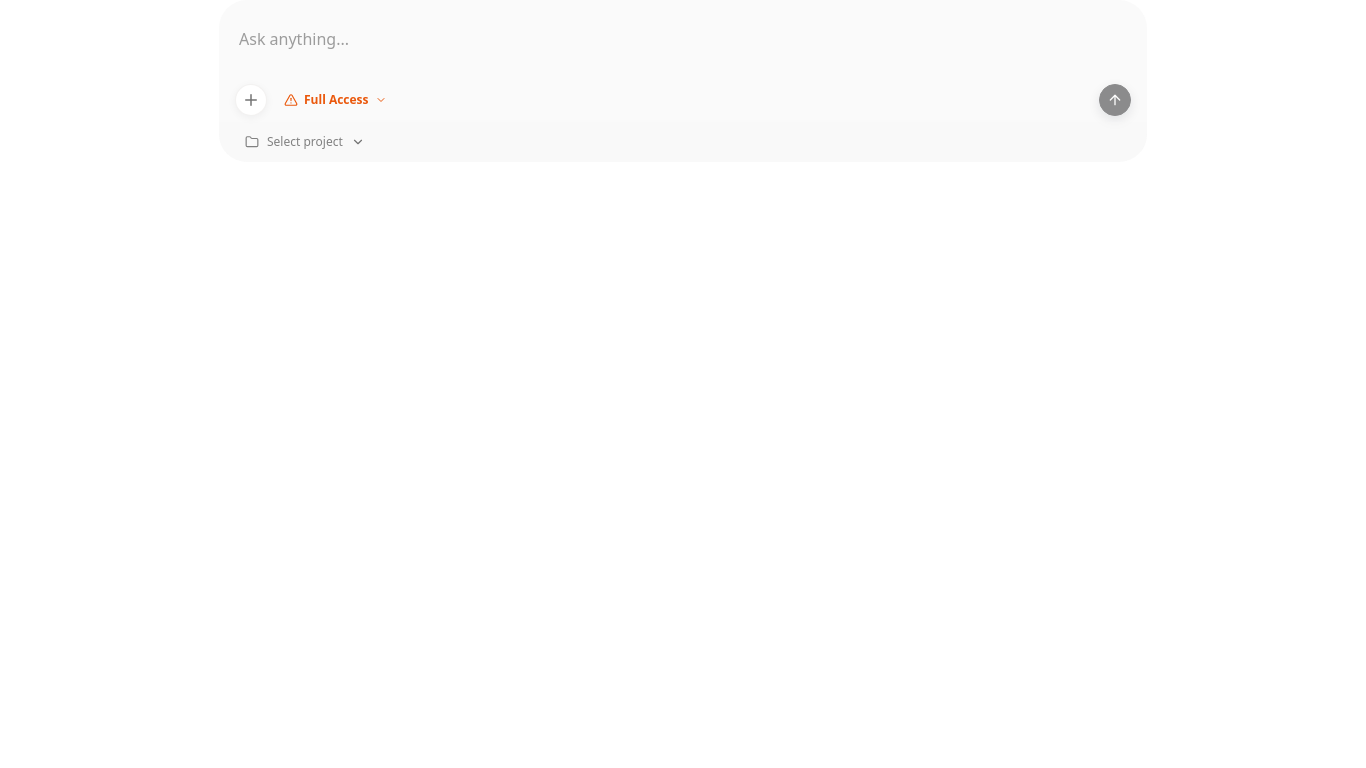
Test: ThreadComposer › uses the web path menu when no native host picker is available
This screenshot has width=1366, height=768.
Click the button with aria-label "Choose project" at (305, 142), box [235,128,375,156]
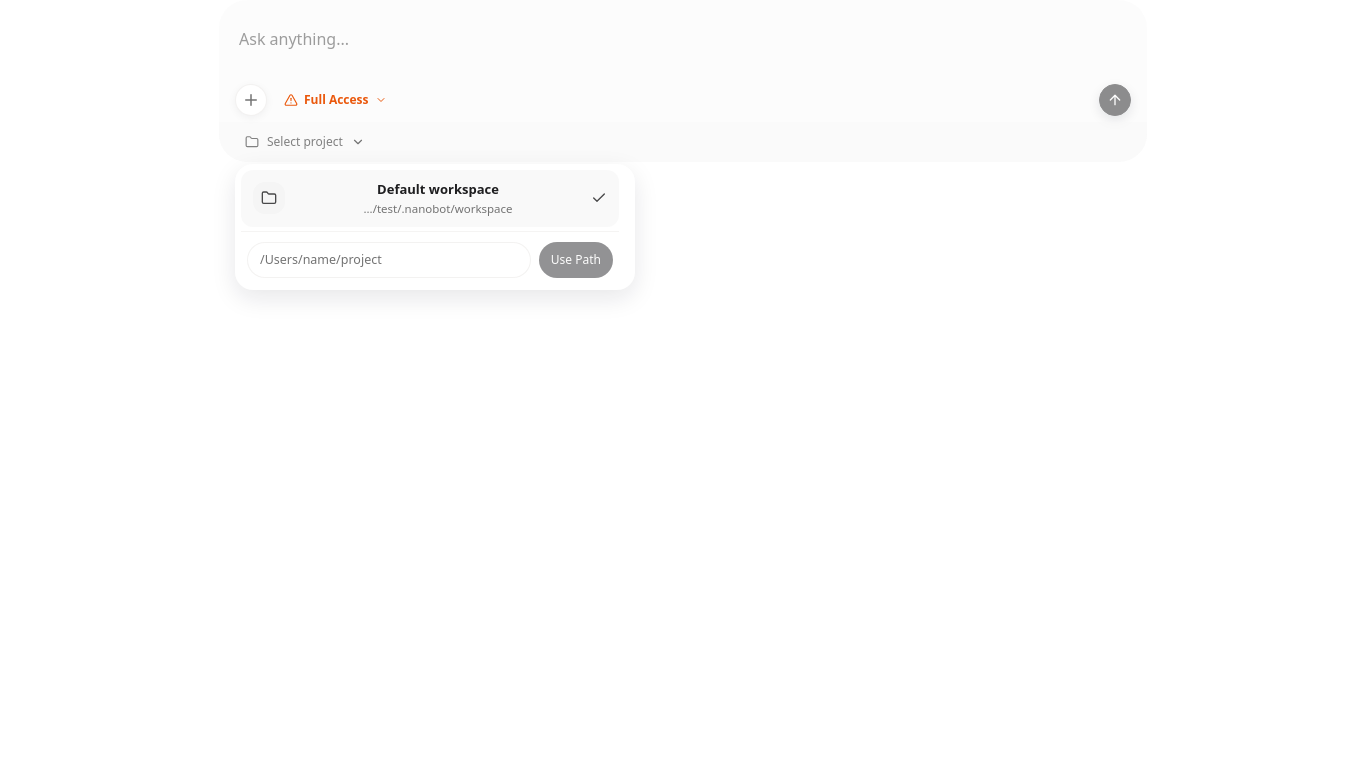
Expected: the button "Default workspace .../test/.nanobot/workspace" is shown, [241,170,619,227]
Expected: the field named "Paste path" is shown, [247,242,531,278]
